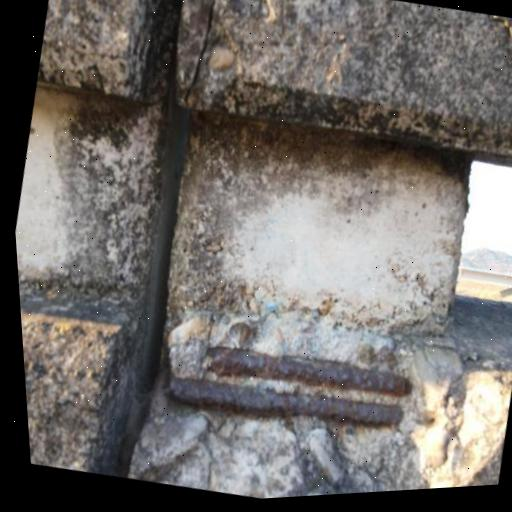exposed_rebar: (169, 375, 402, 426), (206, 346, 411, 397)
